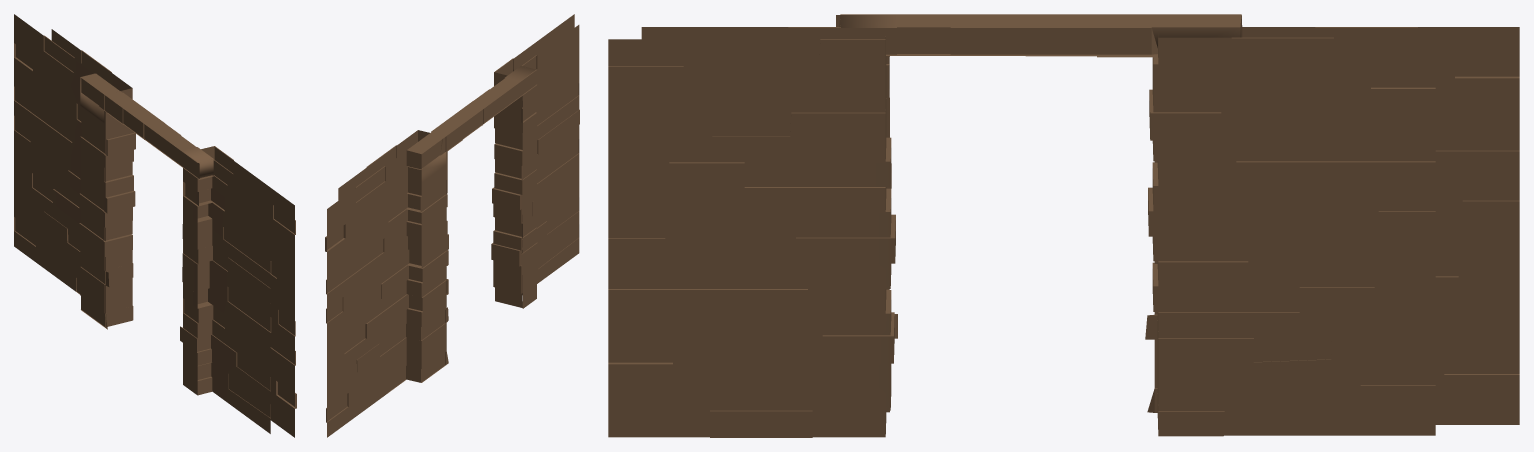
Rendered from Entryway wall.fbx.
The picture shows the model from 3 angles, left to right: view 1: azimuth 30°, elevation 25°; view 2: azimuth 150°, elevation 25°; view 3: azimuth 270°, elevation 25°; orthographic projection. The views are drawn at different scales.
Parts seen in each view (by area): view 1: Corridor_Wall_Fake; view 2: Corridor_Wall_Fake; view 3: Corridor_Wall_Fake.
Boxes of the visible parts, x1,y1,x2,y2 form: Corridor_Wall_Fake: (14, 14, 296, 437); Corridor_Wall_Fake: (325, 14, 579, 437); Corridor_Wall_Fake: (608, 14, 1519, 437).
Bounding box in the file's own units: 36.93 × 248 × 515.
